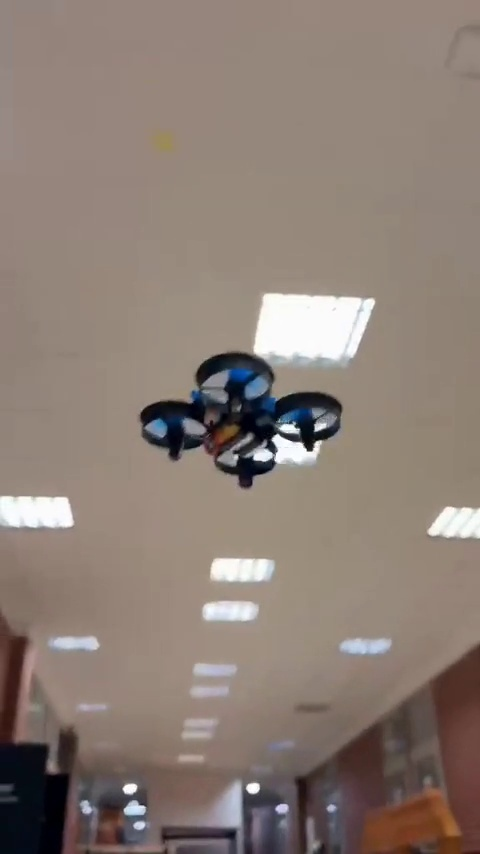drone: (140, 354, 349, 491)
